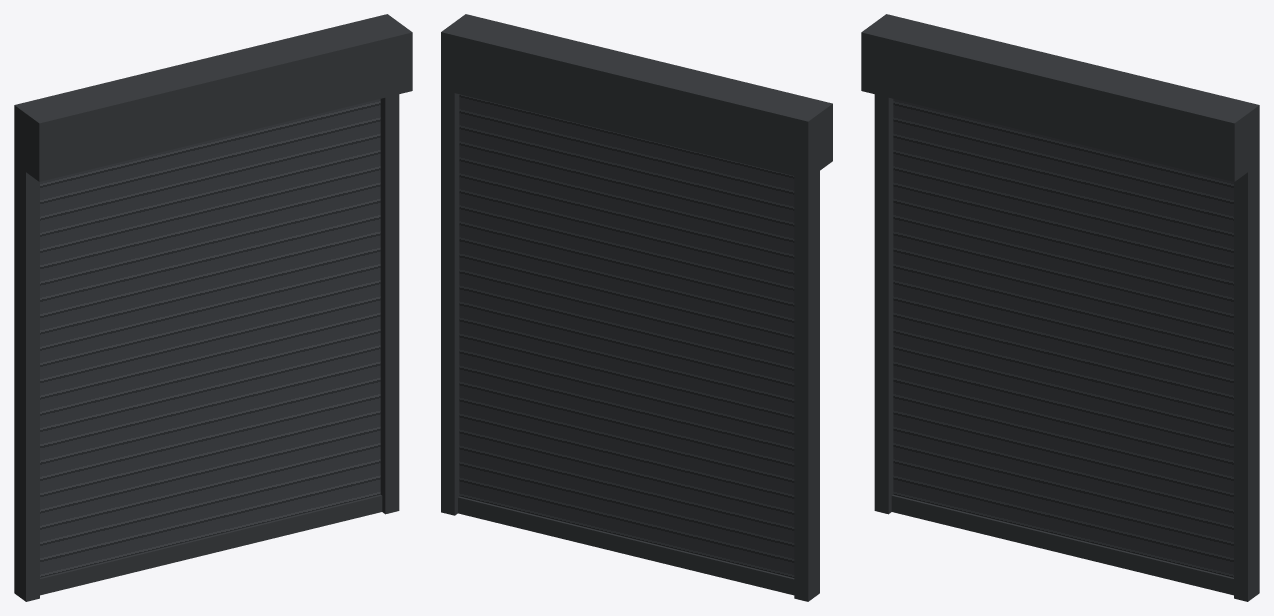
Rendered from roller-shutter-window.glb.
3 views of the same model, side by side, from view 1: azimuth 30°, elevation 25°; view 2: azimuth 150°, elevation 25°; view 3: azimuth 330°, elevation 25° (orthographic).
Parts seen in each view (by area): view 1: Roller shutter 1.2 x 1.5 m; view 2: Roller shutter 1.2 x 1.5 m; view 3: Roller shutter 1.2 x 1.5 m.
Part boxes in pixels (box(x1,y1,x2,y2)): Roller shutter 1.2 x 1.5 m: box(14, 14, 412, 601); Roller shutter 1.2 x 1.5 m: box(441, 14, 832, 601); Roller shutter 1.2 x 1.5 m: box(861, 14, 1259, 601).
Bounding box in the file's own units: 1.2 × 1.5 × 0.14.
Materials: 2 (1 with a texture image).
